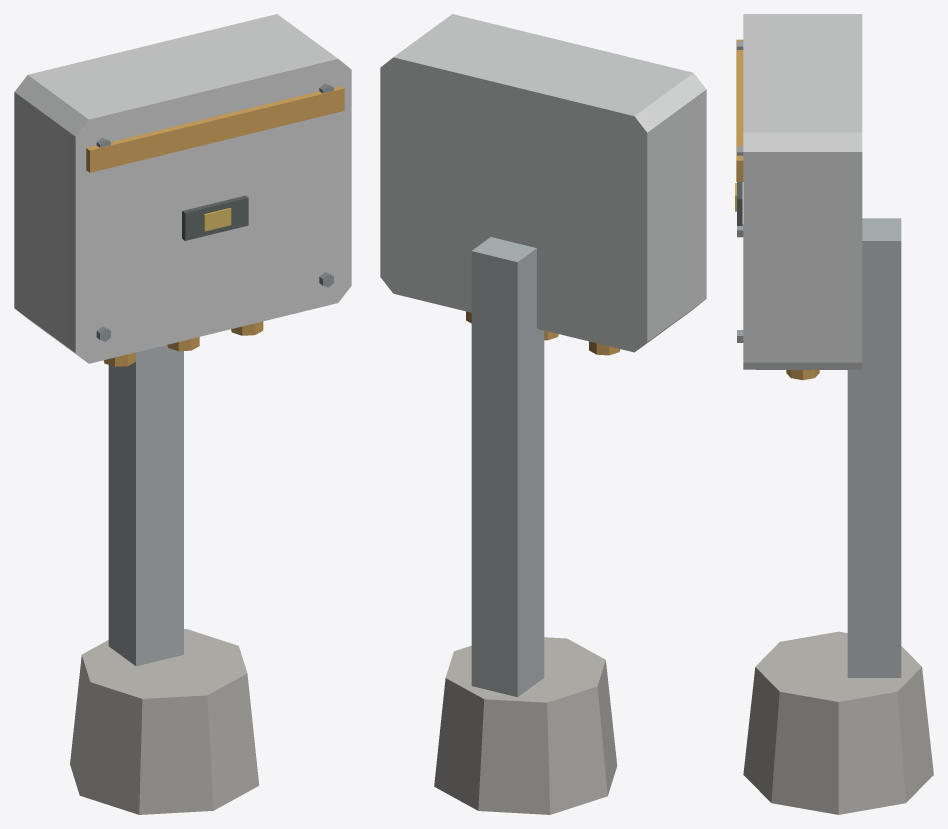
File: junction_box.glb
3 renders of one model, left to right at view 1: azimuth 30°, elevation 25°; view 2: azimuth 150°, elevation 25°; view 3: azimuth 270°, elevation 25°, orthographic. The views are drawn at different scales.
Parts seen in each view (by area): view 1: body; view 2: body; view 3: body.
Boxes of the visible parts, x1=… form: body: x1=14, y1=14, x2=351, y2=814; body: x1=380, y1=14, x2=706, y2=814; body: x1=735, y1=14, x2=933, y2=814.
Size of the model in its own units: 0.5202 by 1.3 by 0.334.
